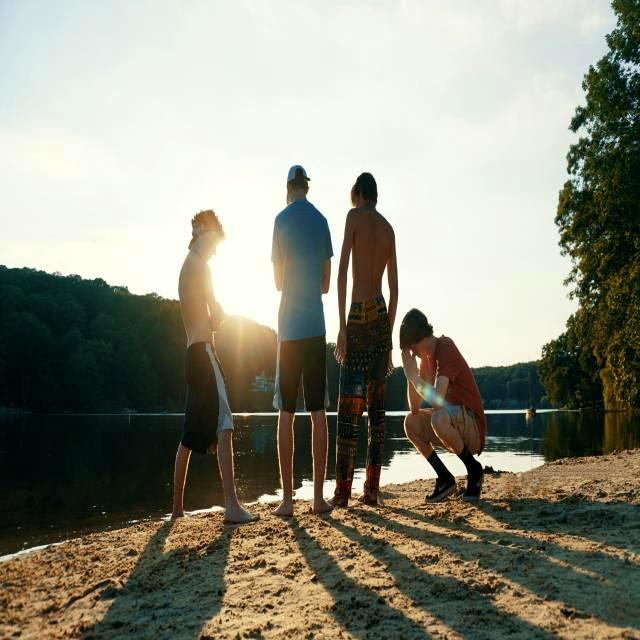no_hard_hat: (286, 164, 310, 207)
no_head_wear: (399, 308, 452, 370), (188, 209, 226, 264), (350, 172, 378, 208)
person: (171, 210, 259, 523), (331, 173, 398, 507), (271, 165, 333, 516), (400, 309, 486, 502)
